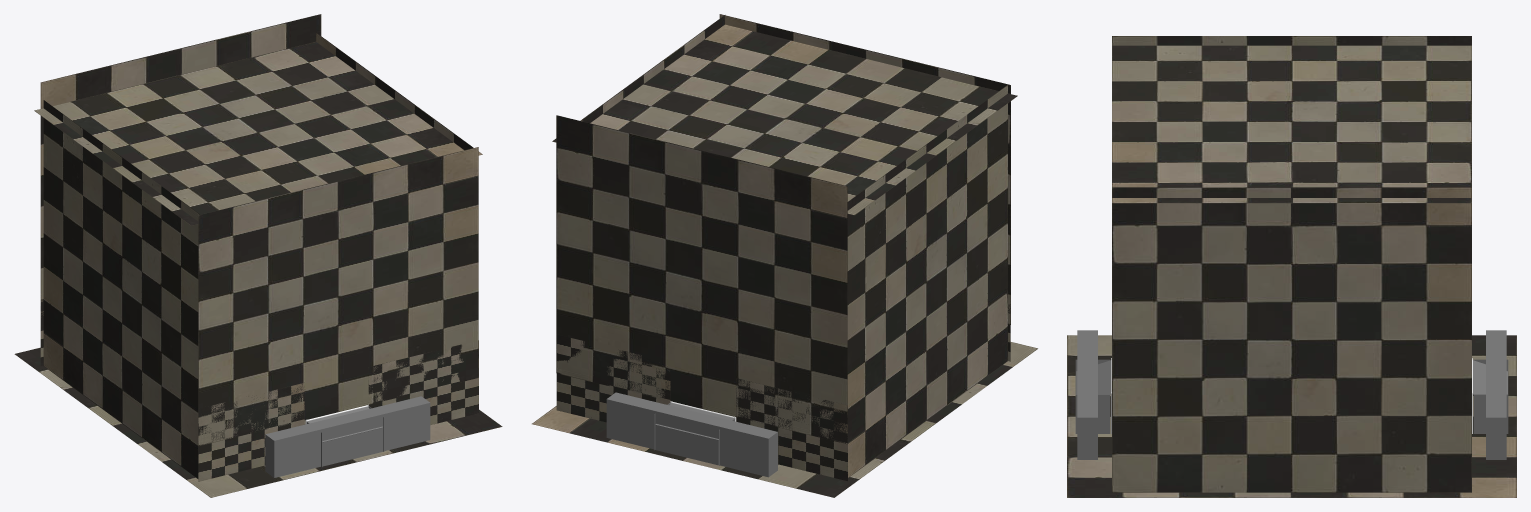
3 renders of one model, left to right at view 1: azimuth 30°, elevation 25°; view 2: azimuth 150°, elevation 25°; view 3: azimuth 270°, elevation 25°, orthographic. The views are drawn at different scales.
Parts seen in each view (by area): view 1: WallFront, WallRight, Roof, WallFront_1, GoalTrigger, Right, Floor, Left, WallLeft, Cube__1_; view 2: WallFront_1, WallRight, Roof, GoalTrigger_1, Left_1, Floor, Right_1, WallFront, Cube__1__1, WallLeft; view 3: WallLeft, Roof, Floor, WallRight, GoalTrigger, GoalTrigger_1, Cube__2_, Cube__3__1.
Part boxes in pixels (x1,y1,x2,y2): WallFront: (198, 147, 478, 446); WallRight: (43, 100, 200, 478); Roof: (34, 42, 482, 225); WallFront_1: (40, 14, 321, 330); GoalTrigger: (265, 396, 430, 477); Right: (198, 382, 304, 481); Floor: (14, 347, 502, 497); Left: (368, 340, 478, 424); WallLeft: (316, 32, 473, 150); Cube__1_: (322, 428, 382, 466); WallFront_1: (556, 115, 847, 444); WallRight: (847, 85, 1007, 477); Roof: (552, 24, 1017, 215); GoalTrigger_1: (606, 392, 777, 477); Left_1: (736, 378, 847, 481); Floor: (532, 342, 1037, 497); Right_1: (556, 334, 670, 422); WallFront: (719, 14, 1010, 324); Cube__1__1: (655, 425, 718, 465); WallLeft: (580, 15, 725, 123); WallLeft: (1112, 187, 1471, 492); Roof: (1112, 45, 1471, 203); Floor: (1067, 335, 1516, 497); WallRight: (1112, 36, 1471, 45); GoalTrigger: (1077, 330, 1097, 459); GoalTrigger_1: (1486, 330, 1506, 459); Cube__2_: (1075, 394, 1110, 433); Cube__3__1: (1473, 394, 1508, 433).
Size of the model in its own units: 17130 by 16078 by 20000.
Materials: 5 (2 with a texture image).
